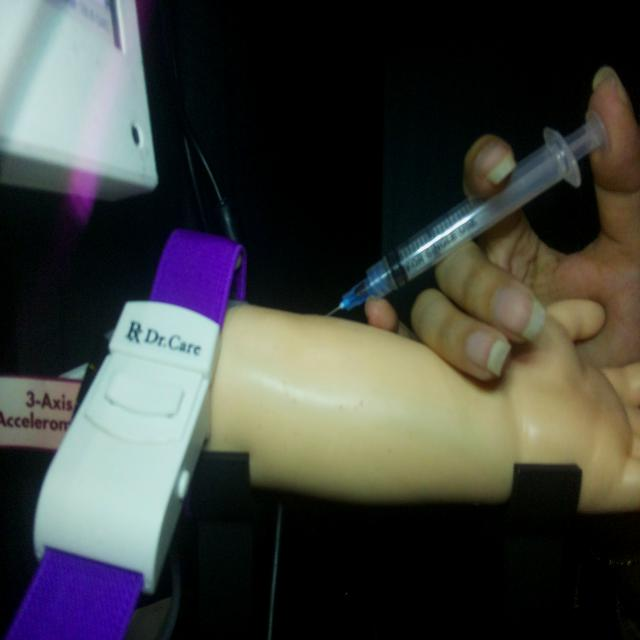26 degrees: (323, 105, 609, 320)
